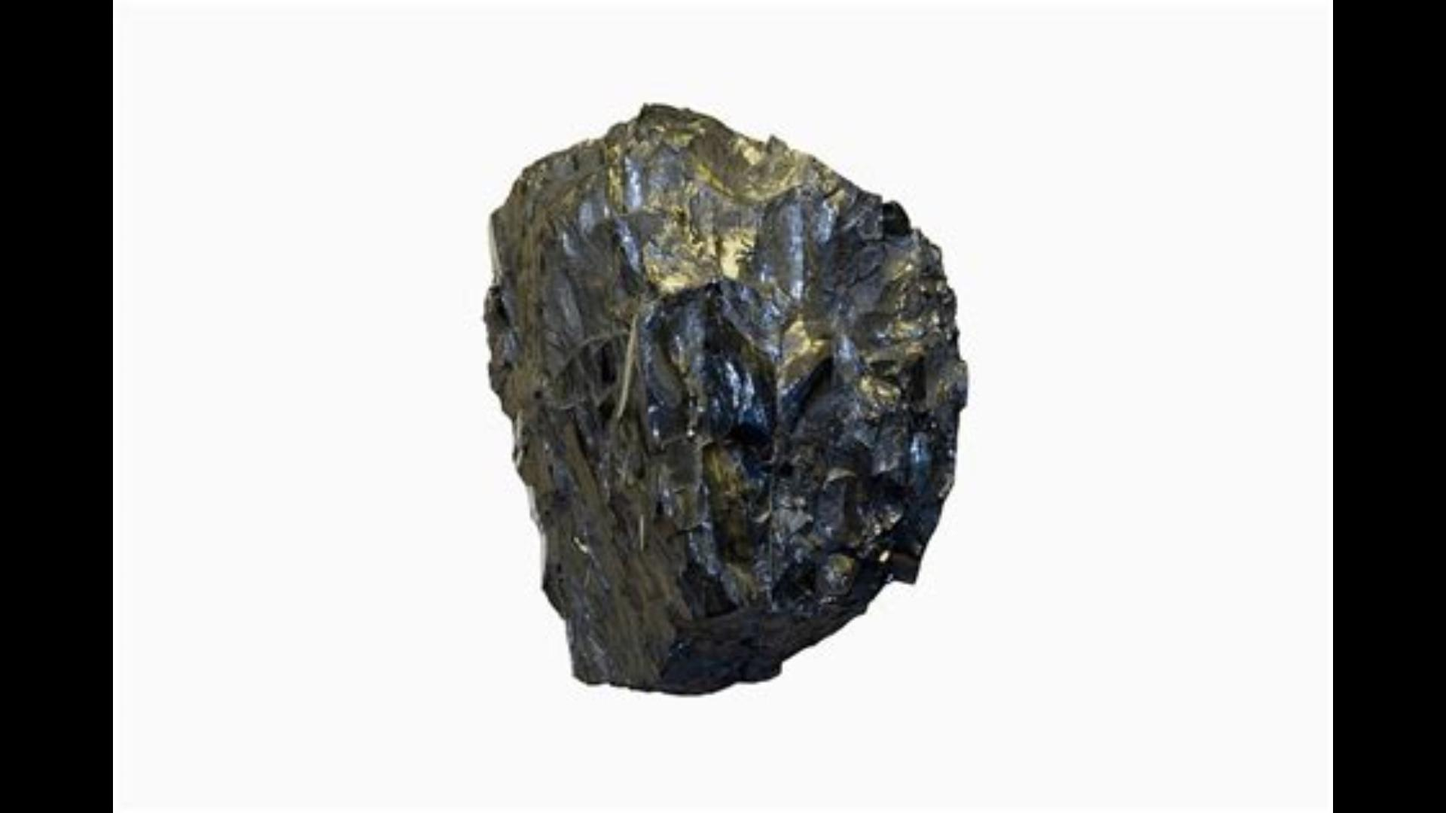rock: (489, 105, 965, 690)
